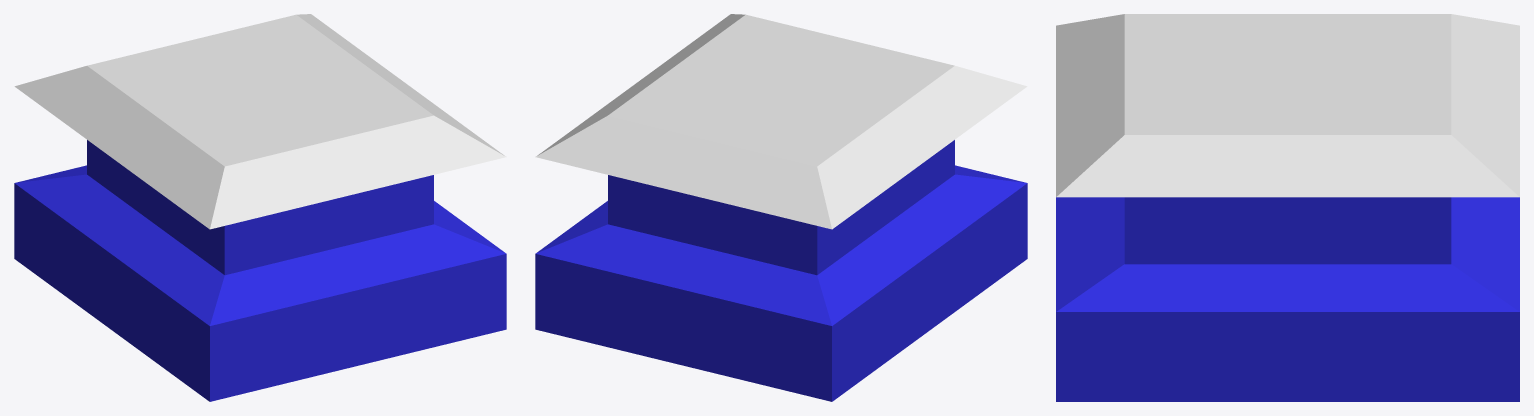
File: Start.fbx
The picture shows the model from 3 angles, left to right: view 1: azimuth 30°, elevation 25°; view 2: azimuth 150°, elevation 25°; view 3: azimuth 270°, elevation 25°; orthographic projection. The views are drawn at different scales.
Parts seen in each view (by area): view 1: Cube; view 2: Cube; view 3: Cube.
Boxes of the visible parts, x1,y1,x2,y2 form: Cube: (14, 14, 506, 401); Cube: (535, 14, 1027, 401); Cube: (1056, 14, 1519, 401).
Bounding box in the file's own units: 674 × 442 × 769.
